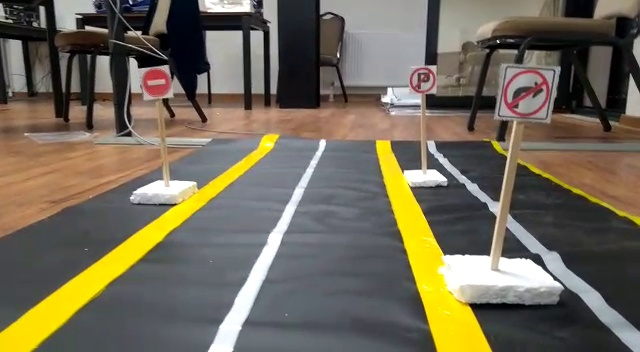girisi_olmayan_yol: (142, 65, 172, 98)
park_yapilmaz: (410, 66, 437, 95)
saga_donulmez: (500, 64, 554, 120)
